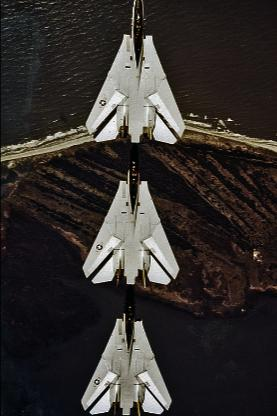EF2000: (84, 0, 185, 145), (81, 142, 178, 288), (79, 285, 172, 415)
